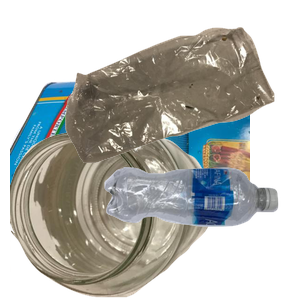glass: (10, 126, 216, 300)
metal: (10, 64, 250, 244)
plastic: (102, 165, 300, 300)
trash: (63, 24, 300, 179)
